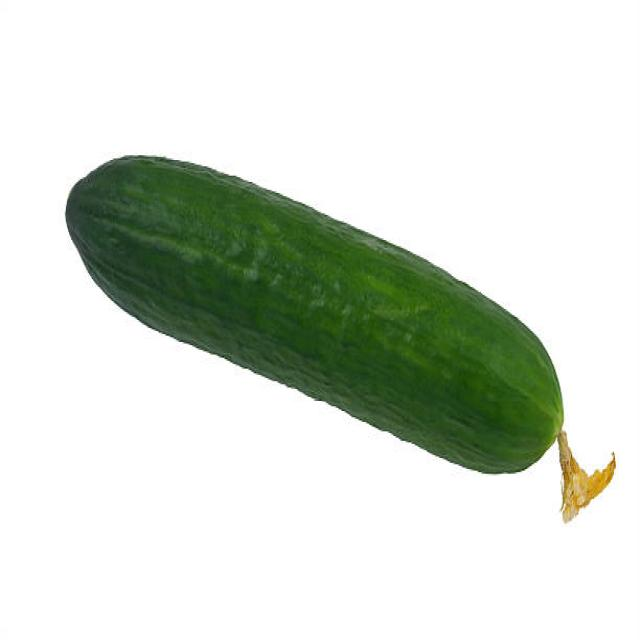cucumber: (66, 151, 564, 476)
